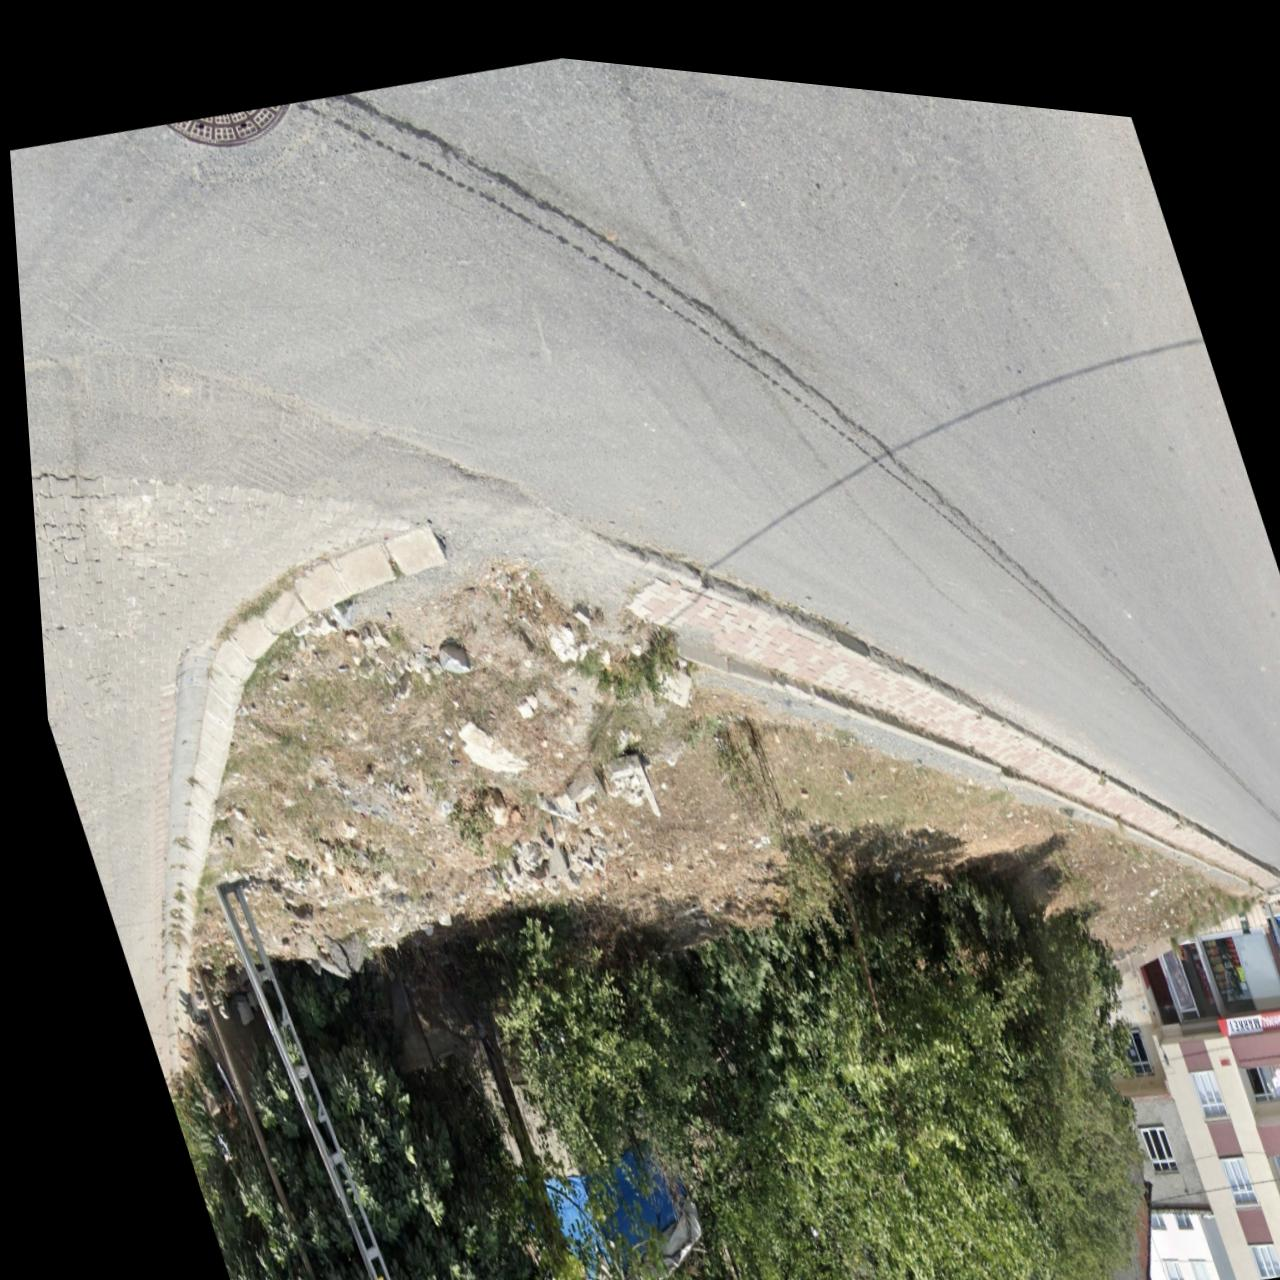Utility Pole Information Plate: (356, 1267, 367, 1280)
